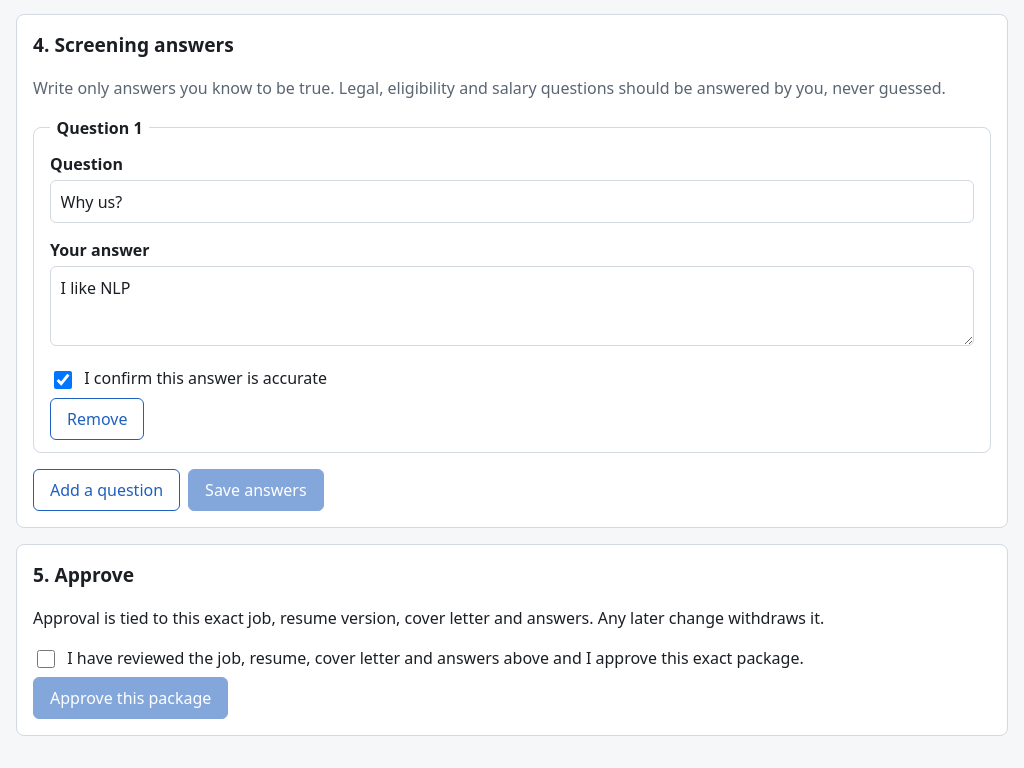
Test case: application review › approve is disabled until the explicit approval box is ticked
Later steps or results of the test are not shown.
(page scrolled)
Check: the button "Approve this package" is disabled, box x1=33 y1=678 x2=228 y2=720
Click the checkbox labelled "I have reviewed the job, resume, cover letter and answers". click: (46, 659)
box: x1=37 y1=650 x2=55 y2=668
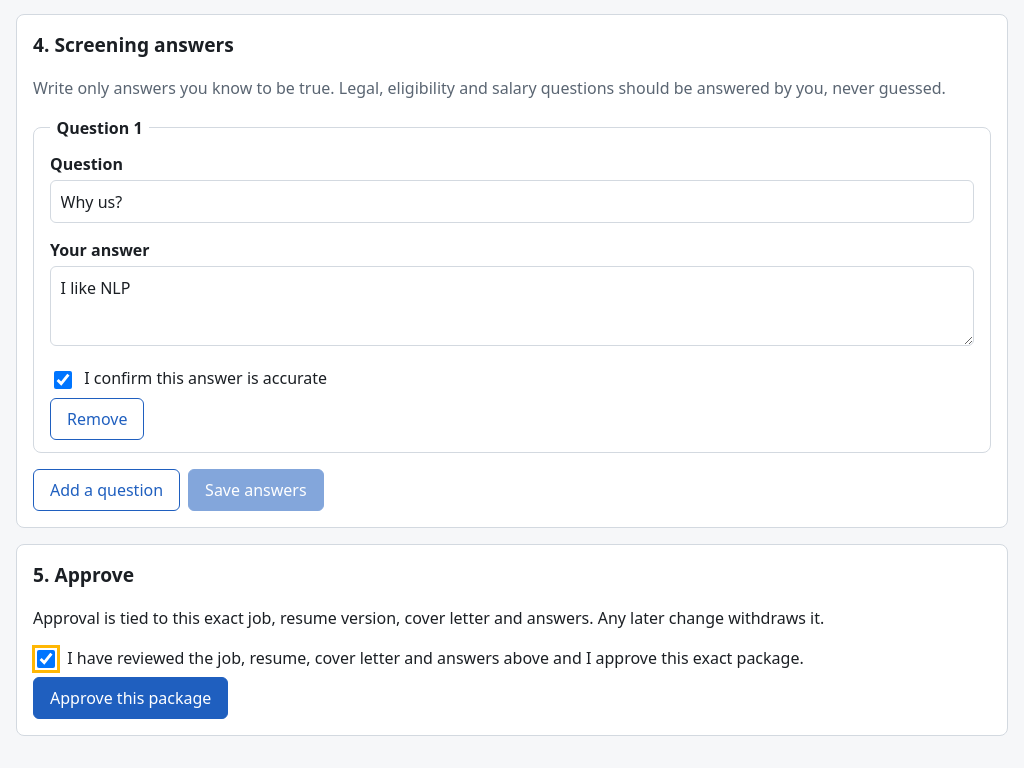
Check: the button "Approve this package" is enabled, box x1=33 y1=678 x2=228 y2=720
